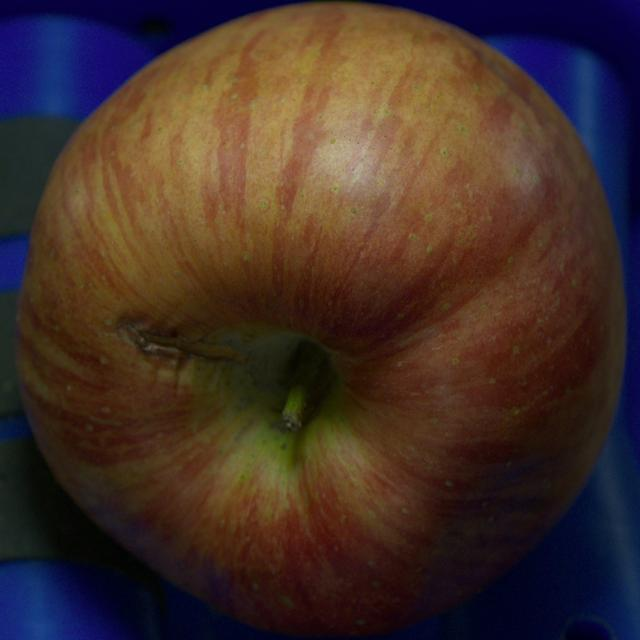apple: (15, 2, 626, 634)
bruise: (148, 355, 220, 395)
scratch: (117, 315, 247, 364)
